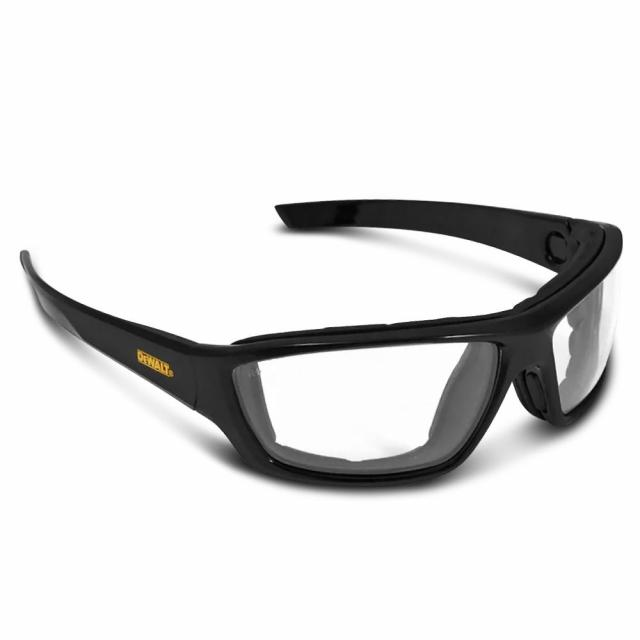Protective Glasses: (7, 178, 631, 508)
